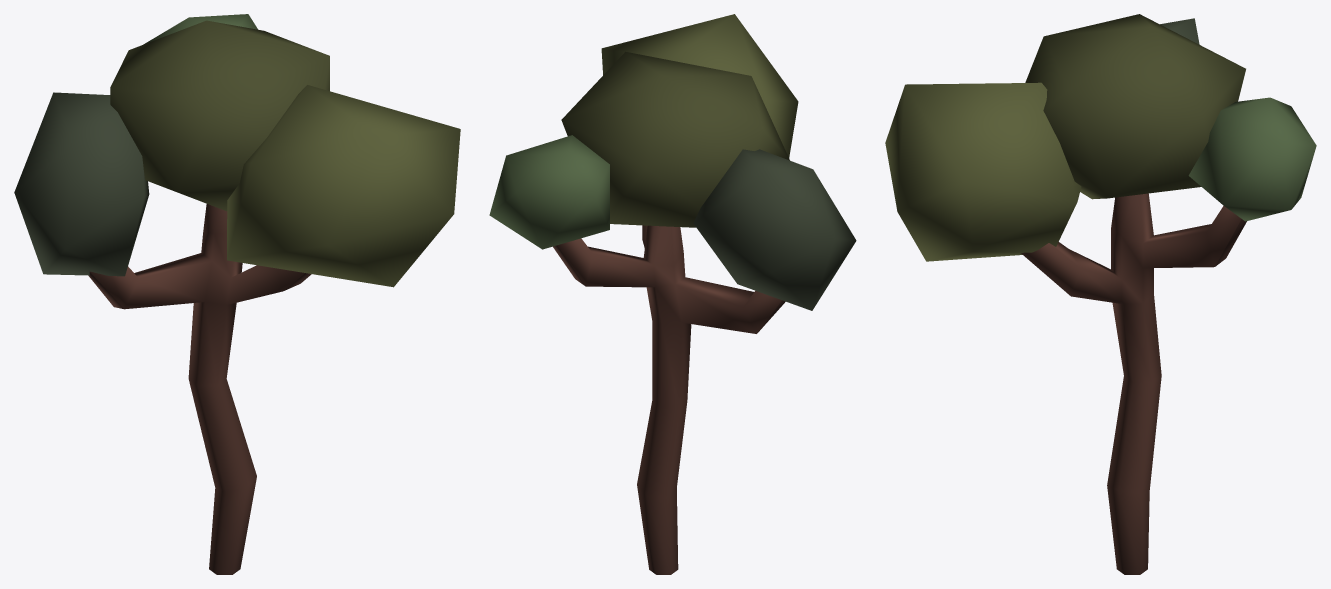
File: Tree2.fbx
3 renders of one model, left to right at view 1: azimuth 30°, elevation 25°; view 2: azimuth 150°, elevation 25°; view 3: azimuth 270°, elevation 25°, orthographic. The views are drawn at different scales.
Visible parts, largest first — view 1: Tree 2; view 2: Tree 2; view 3: Tree 2.
Boxes of the visible parts, x1,y1,x2,y2 form: Tree 2: (14, 14, 460, 574); Tree 2: (489, 14, 856, 574); Tree 2: (885, 14, 1316, 574).
Bounding box in the file's own units: 1.63 × 2.42 × 1.76.
